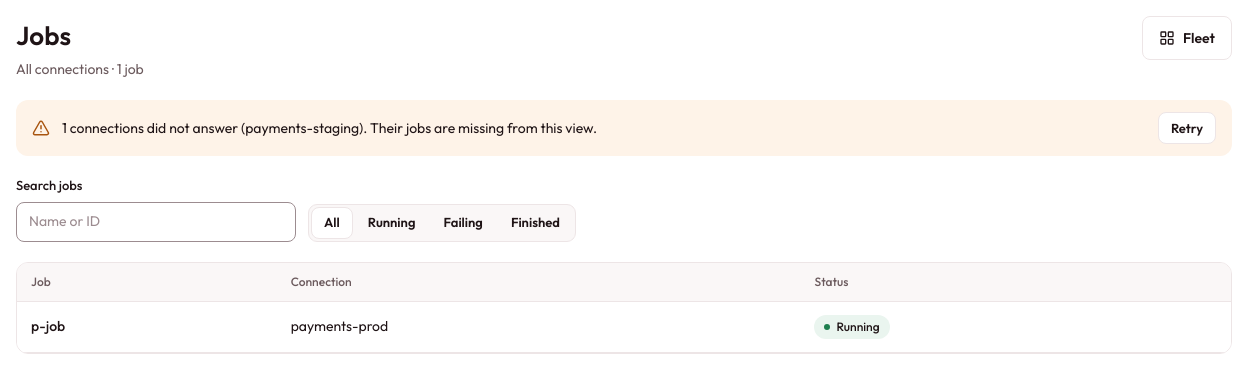
JOB-11 · jobs across connections (board X18) › FLEET-PARTIAL names the connections that did not answer; Retry reads them again
Check: the text "1 connections did not answer (payments-staging). Their jobs are missing from this view." is shown, box [62,119,597,137]
Check: the text "All connections · 1 job" is shown, box [16,59,144,80]
Click the button "Retry" at (1187, 128), box [1158,112,1216,144]
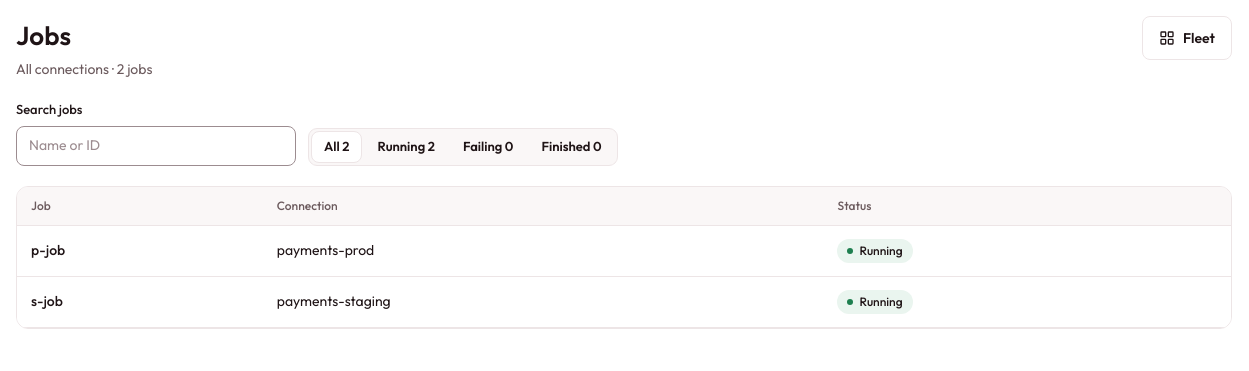
Check: the text "did not answer" is gone
Check: the text "All connections · 2 jobs" is shown, box [16,59,152,80]
